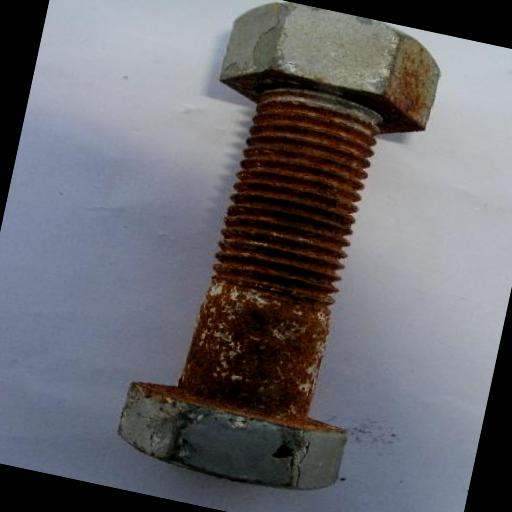corrosion: (176, 78, 383, 424)
